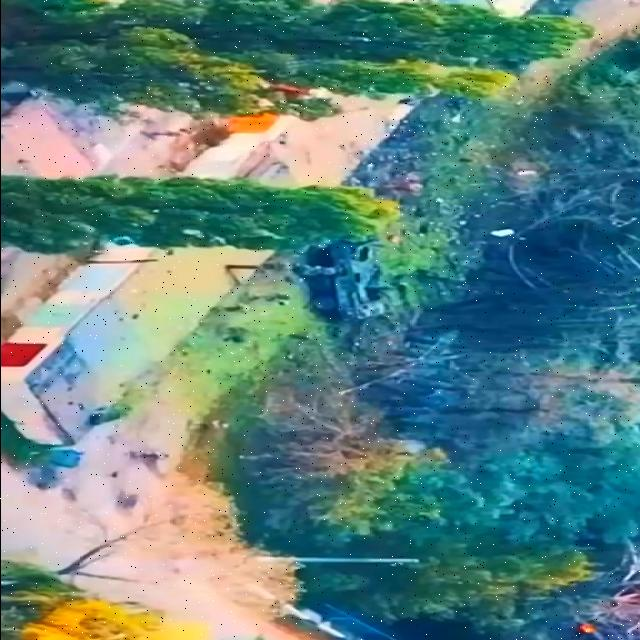APC-IFV: (306, 208, 406, 326)
